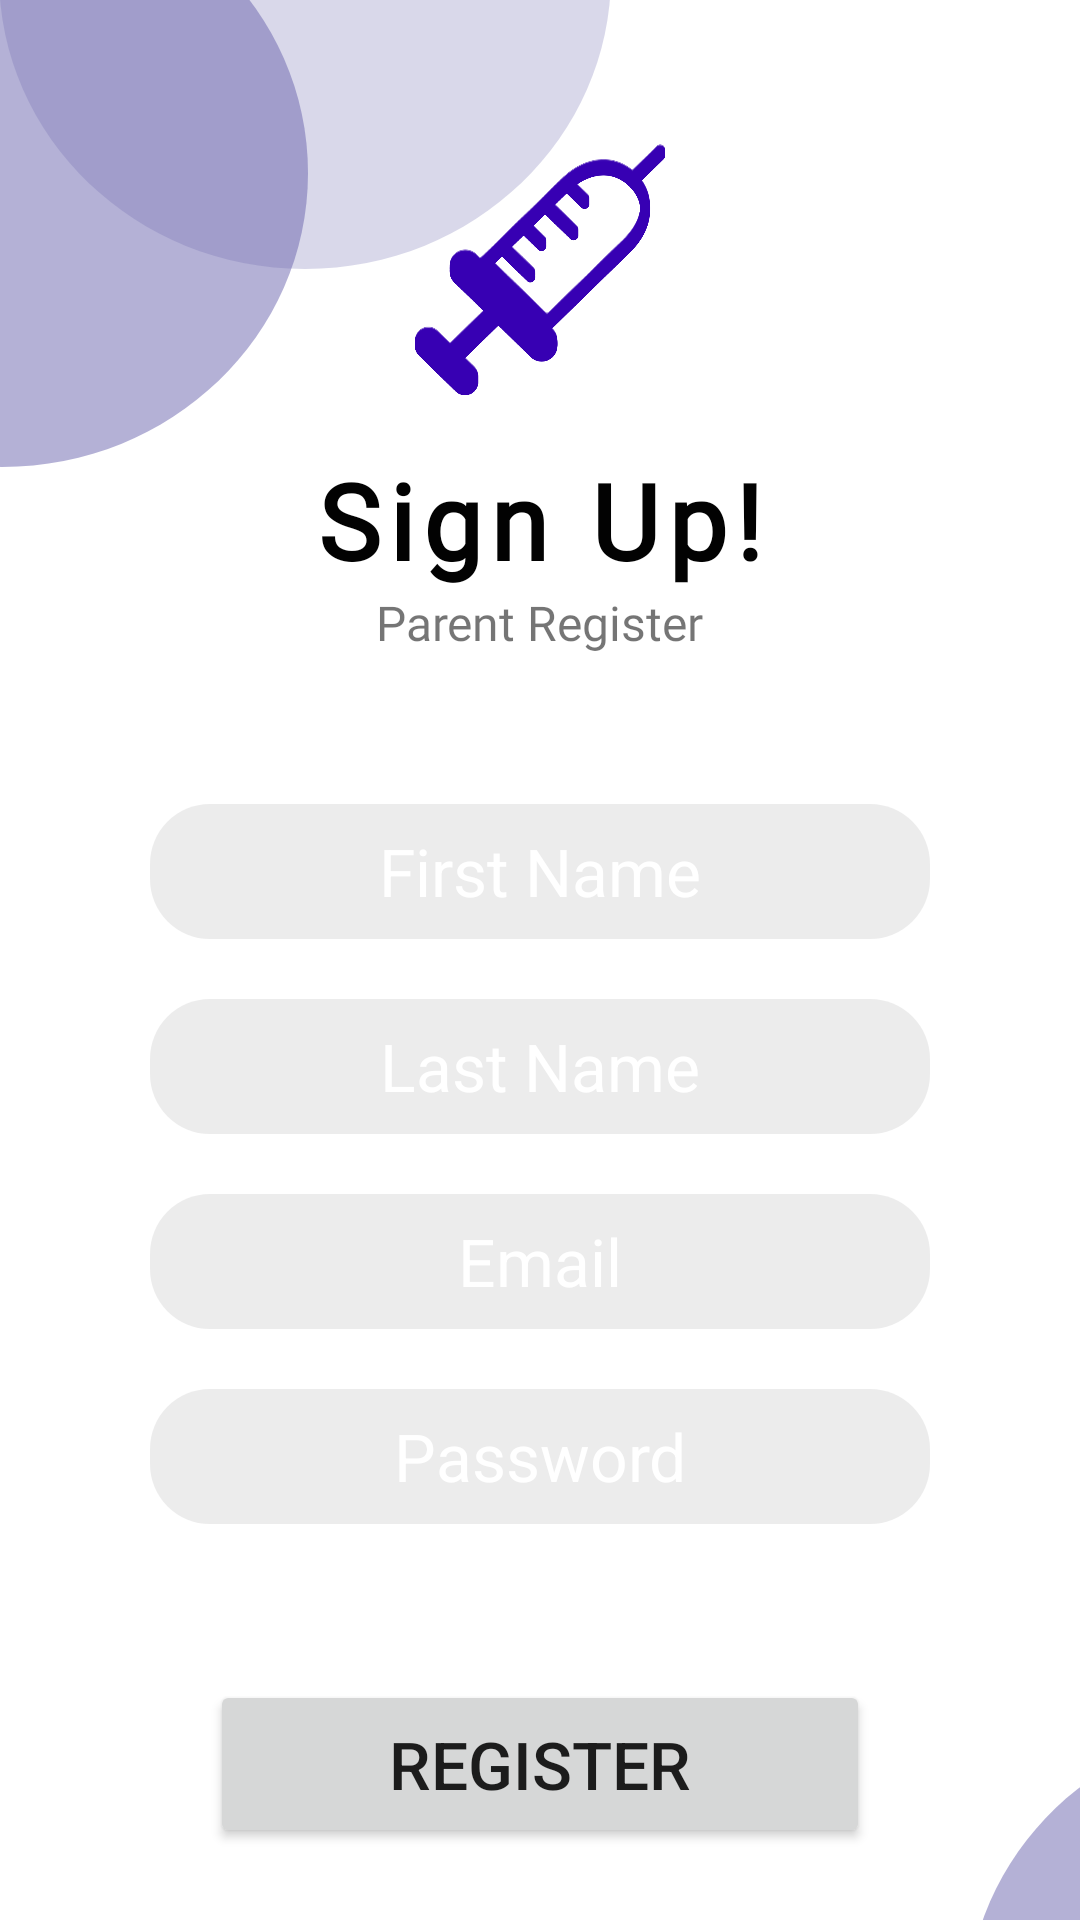

Screen size 1080px x 1920px. Icon name, then its center in pixels as [x,y]:
syringe: [540,269]
